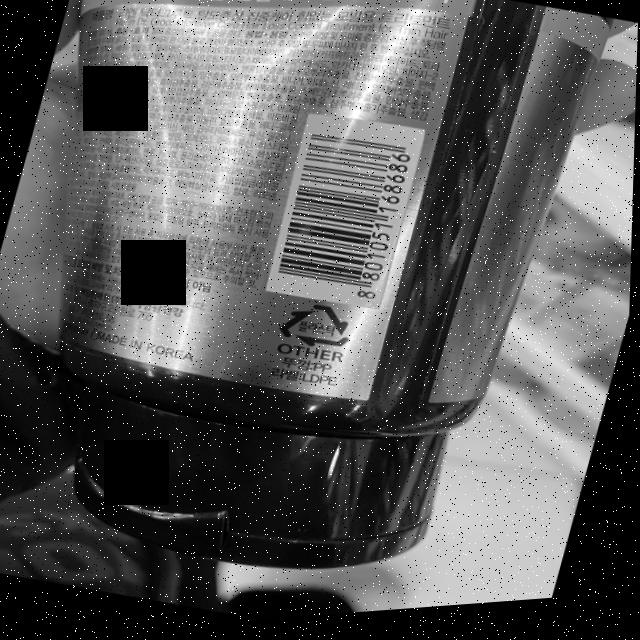Plastic: (274, 296, 362, 363)
